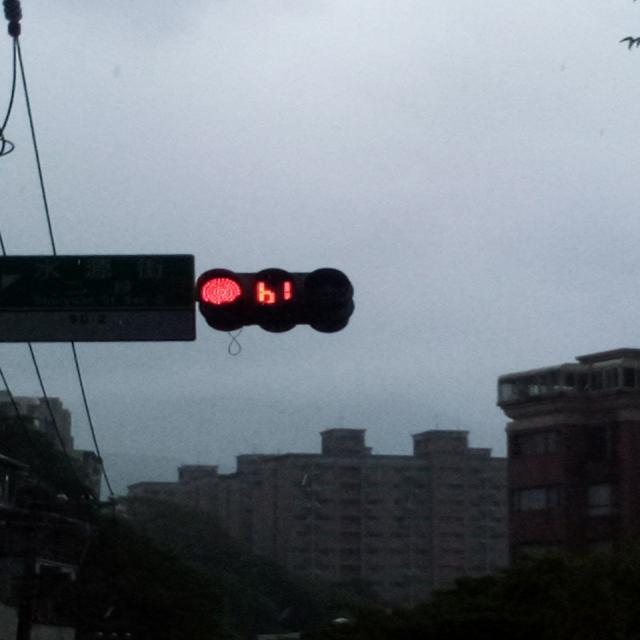red light: (196, 266, 357, 324)
